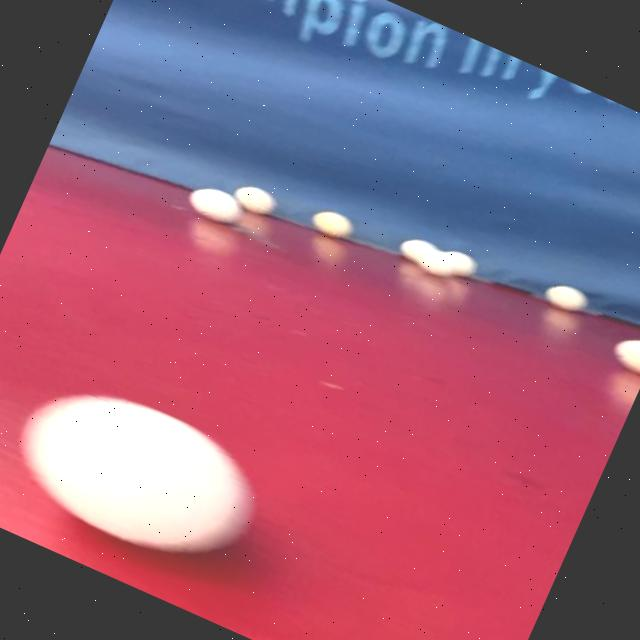ping-pong-ball: (0, 358, 277, 583)
